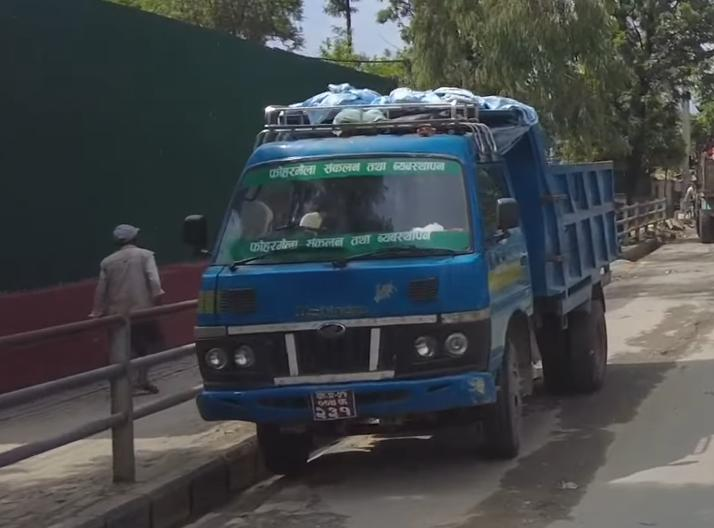mini_truck: (188, 75, 635, 473)
